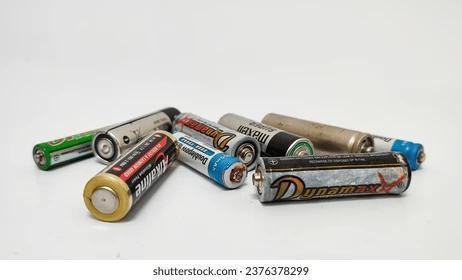AA: (81, 129, 181, 223), (250, 149, 414, 205), (171, 109, 262, 173), (90, 104, 184, 165), (172, 130, 250, 190)
